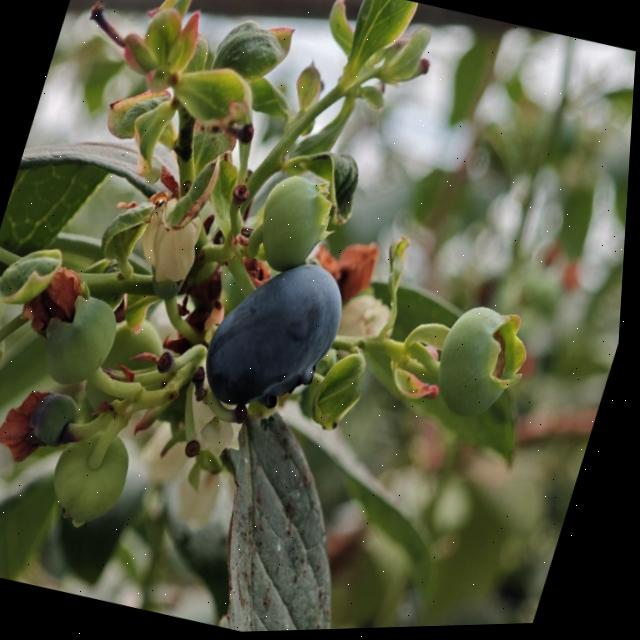RipeBlueBerry: (194, 244, 362, 432)
UnripeBlueBerry: (426, 298, 546, 433), (31, 282, 131, 395), (44, 423, 143, 537), (248, 168, 345, 284)
